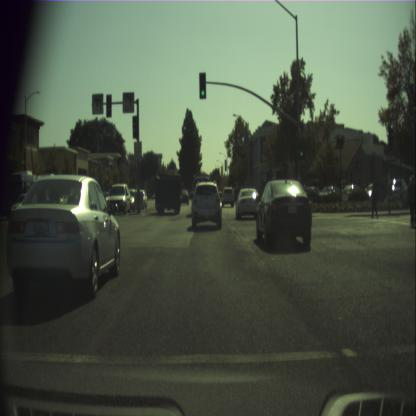Green: (199, 72, 206, 98), (298, 136, 303, 160)
off: (132, 115, 138, 138), (106, 93, 111, 116)
